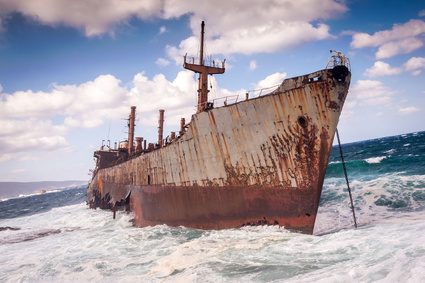rust: (132, 185, 313, 234), (259, 123, 327, 180), (292, 73, 342, 112)
